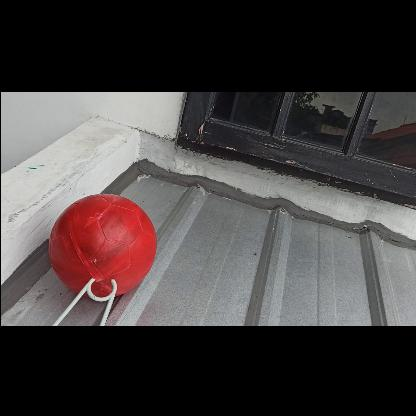red_ball: (48, 192, 154, 296)
